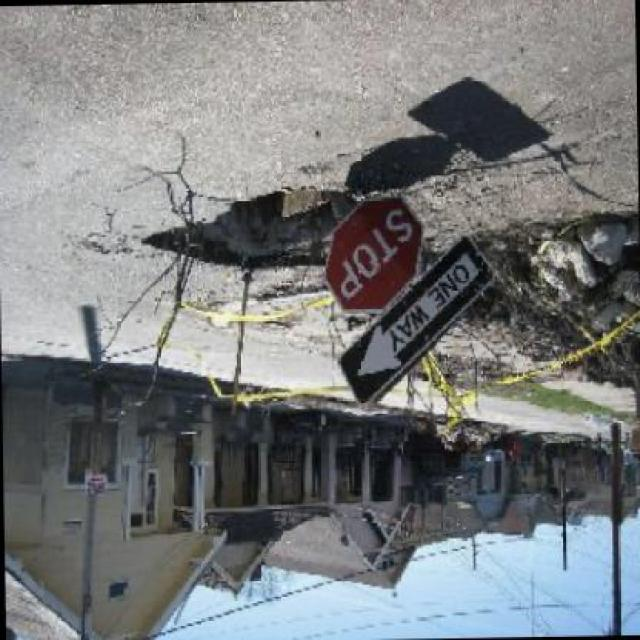pothole1: (136, 182, 370, 286)
